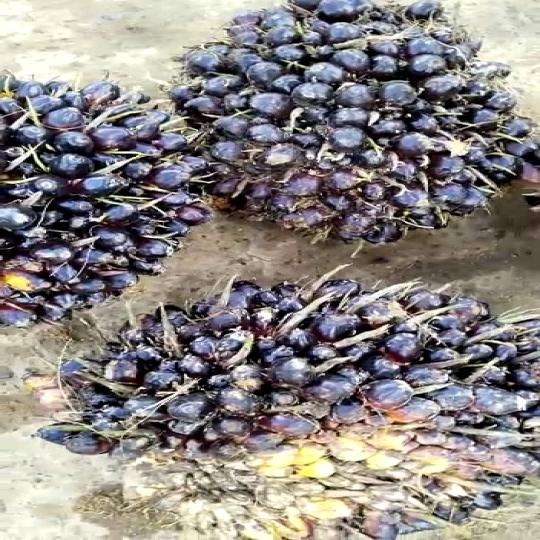mentah: (66, 279, 540, 540), (161, 0, 540, 248), (0, 78, 222, 328)
